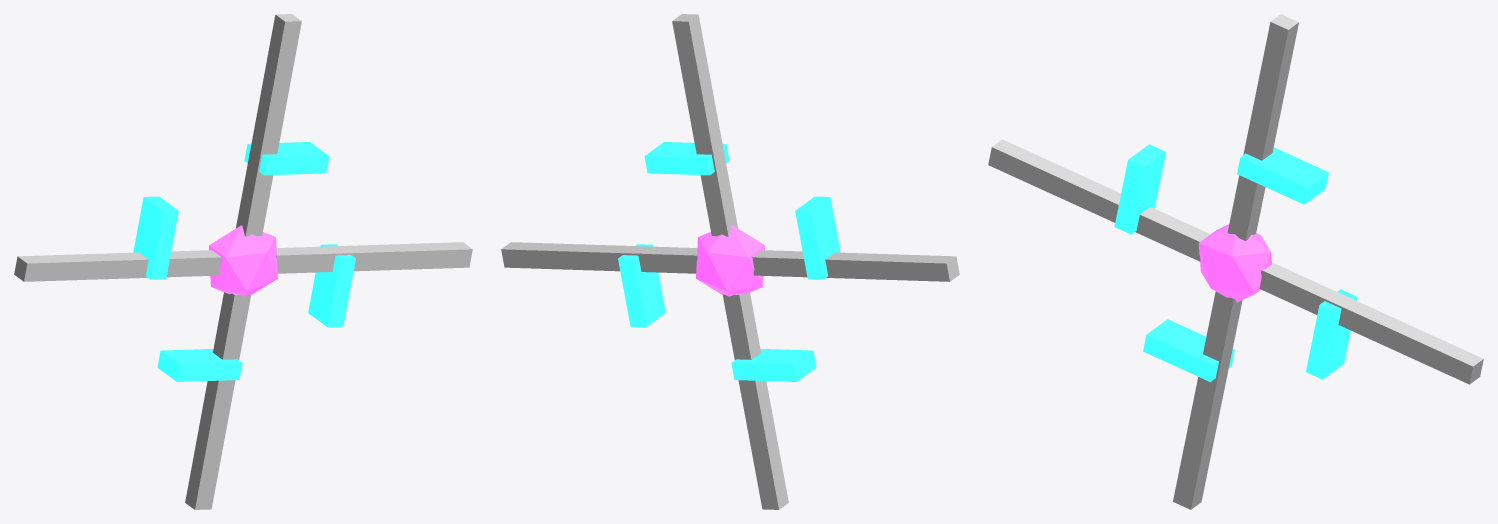
3 views of the same model, side by side, from view 1: azimuth 30°, elevation 25°; view 2: azimuth 150°, elevation 25°; view 3: azimuth 330°, elevation 25° (orthographic). The views are drawn at different scales.
Parts seen in each view (by area): view 1: Neon_WindmillRotor_Simple; view 2: Neon_WindmillRotor_Simple; view 3: Neon_WindmillRotor_Simple.
Boxes of the visible parts, <box> form: Neon_WindmillRotor_Simple: <box>14,14,472,509</box>; Neon_WindmillRotor_Simple: <box>501,14,959,509</box>; Neon_WindmillRotor_Simple: <box>988,14,1483,509</box>.
Size of the model in its own units: 1.98 by 1.98 by 0.2042.
